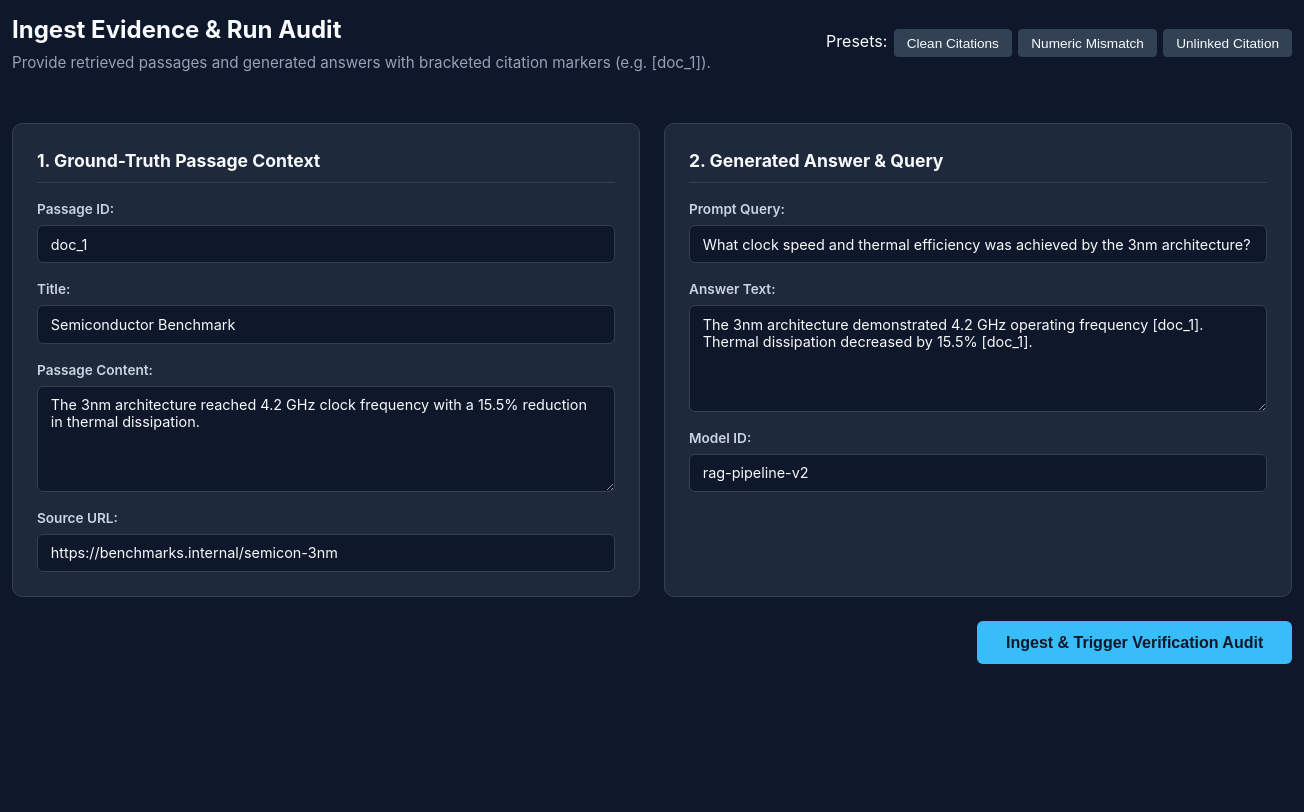
ImportWorkflow Component › loads Unlinked Citation preset when clicked
The width and height of the screenshot is (1304, 812).
Step 1. Click the button "Unlinked Citation" → (1228, 43), box [1163,29,1292,58]
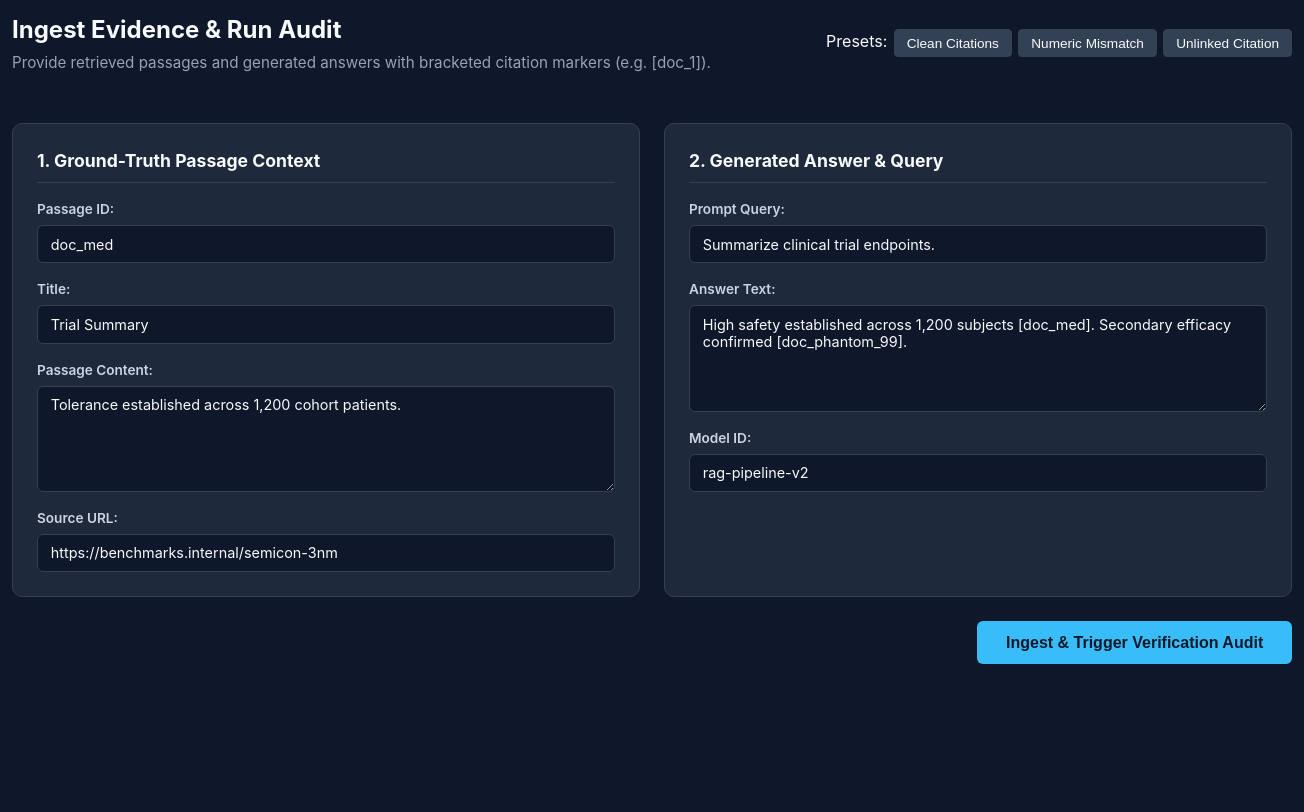
Expected: the field showing "doc_med" below "Passage ID:" is shown, [37,225,615,263]
Expected: the field showing "Trial Summary" below "Title:" is shown, [37,305,615,344]
Expected: the text box showing "Tolerance established across 1,200 cohort patients." below "Passage Content:" is shown, [37,386,615,492]
